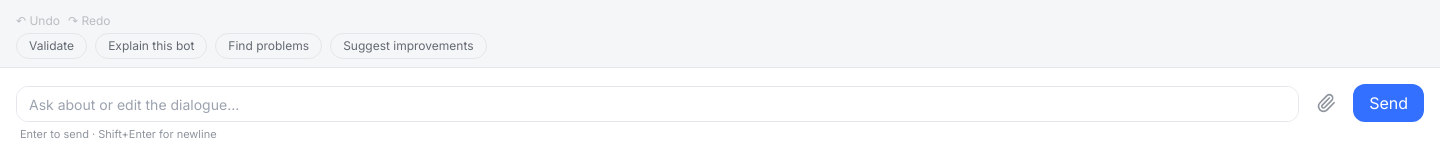
Test case: ChatPane @-mention › filters by the text after @
In the text box with placeholder "Ask about or edit the dialogue…": (658, 104) [16, 86, 1299, 122], type "@Charge"
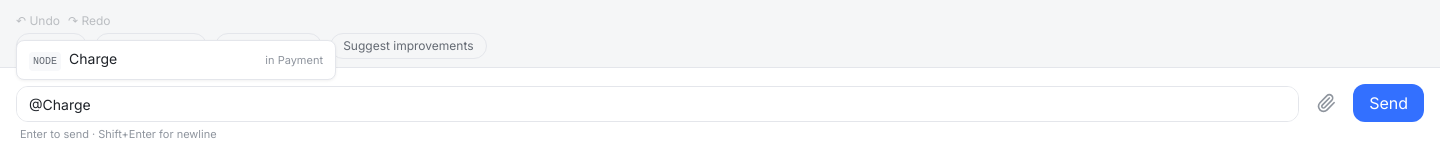
Check: the element with test id "mention-menu" is shown, box [16, 40, 336, 80]
Check: the element with test id "mention-menu" shows "Charge", box [17, 40, 335, 78]
